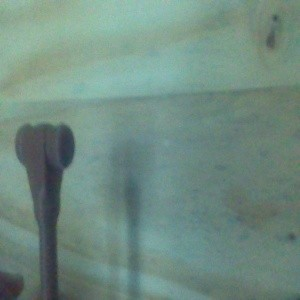palu: (15, 122, 75, 300)
